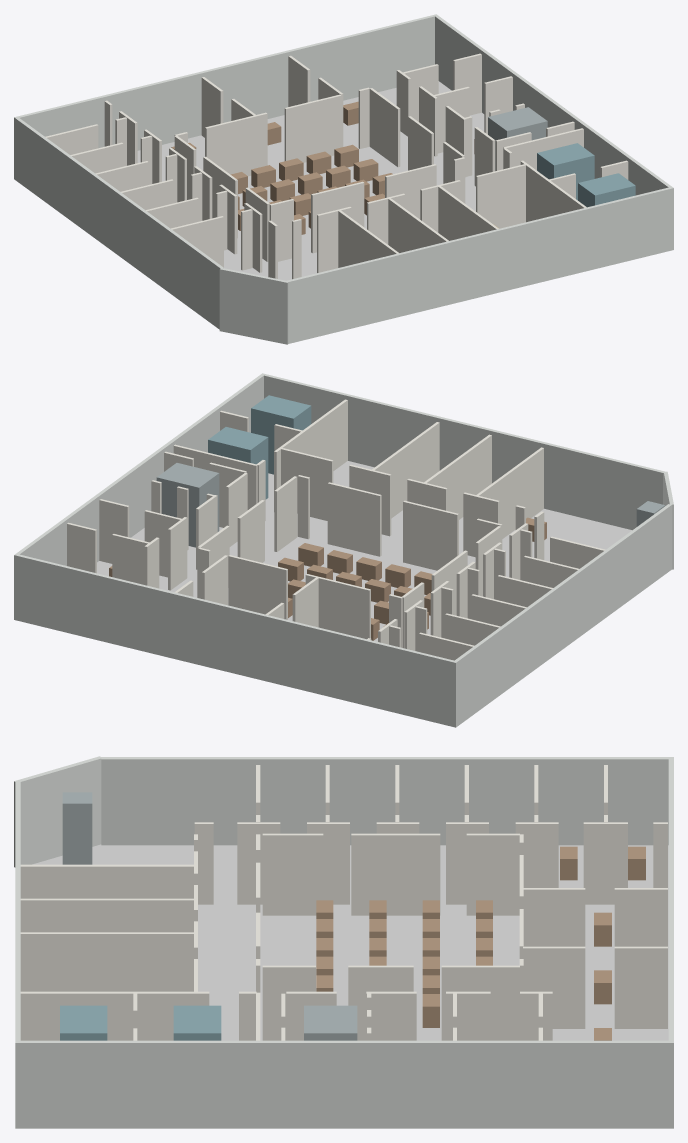
File: office.glb
3 views of the same model, one above another, from view 1: azimuth 30°, elevation 25°; view 2: azimuth 150°, elevation 25°; view 3: azimuth 270°, elevation 25° (orthographic). The views are drawn at different scales.
Visible parts, largest first — view 1: OfficeDemoReplacement_wall_Blocking, OfficeDemoReplacement_partition_Blocking, OfficeDemoReplacement_desk_Blocking, OfficeDemoReplacement_Floor, OfficeDemoReplacement_elevator_Blocking, OfficeDemoReplacement_stairs_Blocking; view 2: OfficeDemoReplacement_wall_Blocking, OfficeDemoReplacement_partition_Blocking, OfficeDemoReplacement_Floor, OfficeDemoReplacement_desk_Blocking, OfficeDemoReplacement_elevator_Blocking, OfficeDemoReplacement_stairs_Blocking; view 3: OfficeDemoReplacement_wall_Blocking, OfficeDemoReplacement_partition_Blocking, OfficeDemoReplacement_Floor, OfficeDemoReplacement_desk_Blocking, OfficeDemoReplacement_stairs_Blocking, OfficeDemoReplacement_elevator_Blocking.
Part boxes in pixels (x1,y1,x2,y2): OfficeDemoReplacement_wall_Blocking: (14, 14, 673, 344); OfficeDemoReplacement_partition_Blocking: (45, 53, 628, 279); OfficeDemoReplacement_desk_Blocking: (171, 101, 474, 234); OfficeDemoReplacement_Floor: (137, 81, 484, 280); OfficeDemoReplacement_elevator_Blocking: (537, 143, 635, 207); OfficeDemoReplacement_stairs_Blocking: (488, 107, 547, 170); OfficeDemoReplacement_wall_Blocking: (14, 373, 673, 727); OfficeDemoReplacement_partition_Blocking: (67, 399, 605, 660); OfficeDemoReplacement_Floor: (97, 461, 631, 641); OfficeDemoReplacement_desk_Blocking: (109, 517, 546, 640); OfficeDemoReplacement_elevator_Blocking: (208, 395, 311, 499); OfficeDemoReplacement_stairs_Blocking: (156, 463, 665, 547); OfficeDemoReplacement_wall_Blocking: (14, 756, 673, 1128); OfficeDemoReplacement_partition_Blocking: (20, 765, 667, 1040); OfficeDemoReplacement_Floor: (32, 844, 668, 1040); OfficeDemoReplacement_desk_Blocking: (316, 846, 645, 1040); OfficeDemoReplacement_stairs_Blocking: (62, 792, 357, 1040); OfficeDemoReplacement_elevator_Blocking: (60, 1005, 221, 1040).
Bounding box in the file's own units: 22.92 × 3.2 × 22.3.
